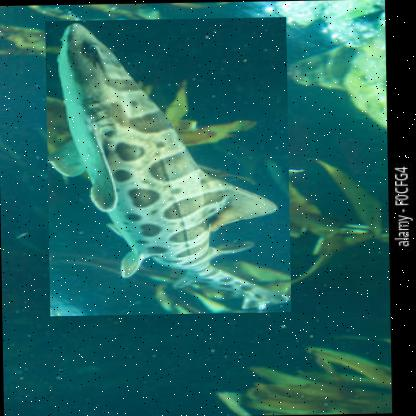zebra_shark: (44, 14, 292, 314)
